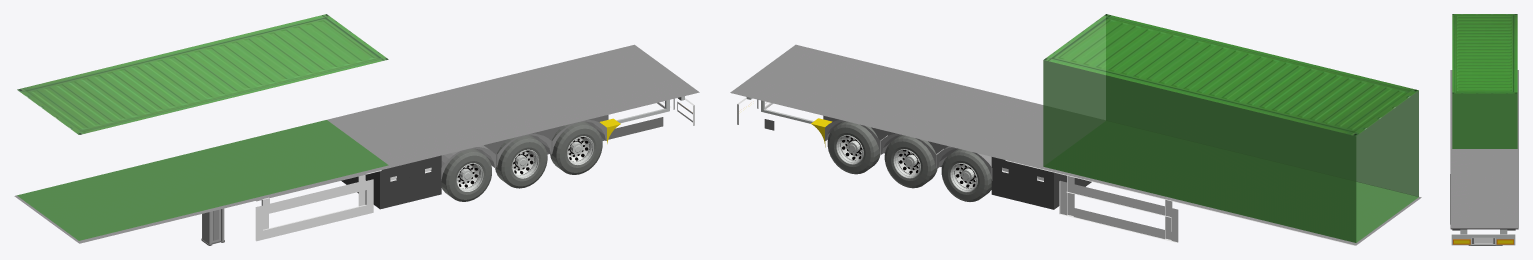
File: trailer_fs.glb
3 views of the same model, side by side, from view 1: azimuth 30°, elevation 25°; view 2: azimuth 150°, elevation 25°; view 3: azimuth 270°, elevation 25° (orthographic). The views are drawn at different scales.
Visible parts, largest first — view 1: bodycar, 平面.011; view 2: 平面.011, bodycar; view 3: 平面.011, bodycar.
Part boxes in pixels (box(x1,y1,x2,y2)): bodycar: box(14, 44, 699, 245); 平面.011: box(17, 14, 388, 240); 平面.011: box(1043, 14, 1418, 242); bodycar: box(730, 44, 1421, 245); 平面.011: box(1452, 14, 1517, 148); bodycar: box(1450, 70, 1518, 245).
Bounding box in the file's own units: 9.22 × 2.28 × 1.69.
4 materials, 4 textured.
